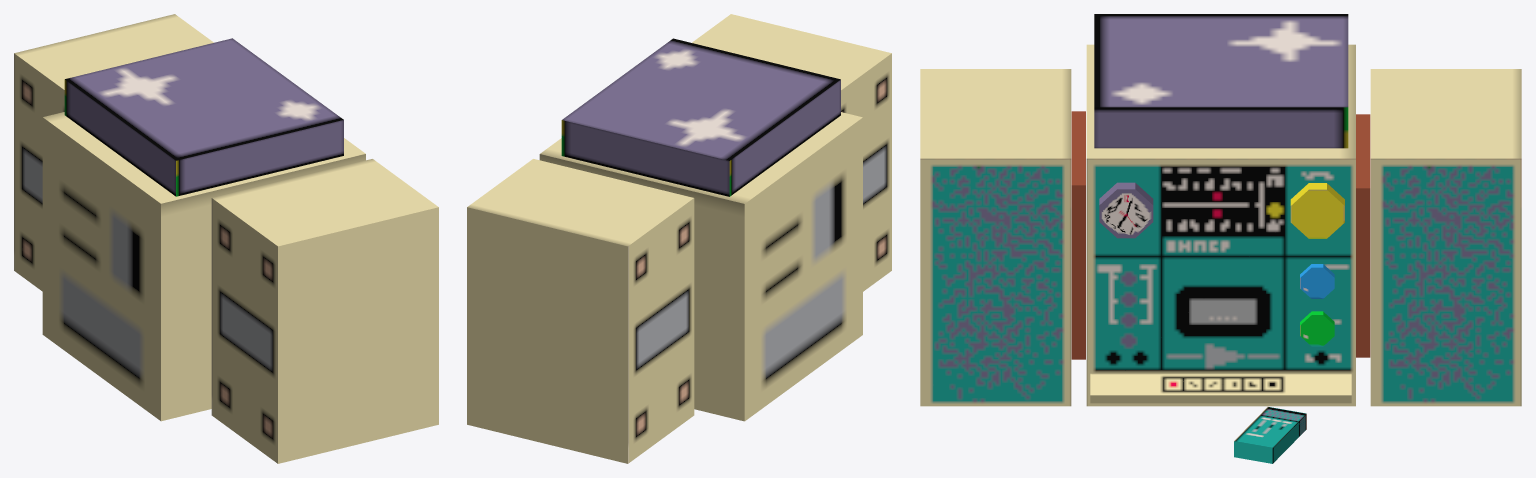
The model's file is sharp4.obj.
The picture shows the model from 3 angles, left to right: view 1: azimuth 30°, elevation 25°; view 2: azimuth 150°, elevation 25°; view 3: azimuth 270°, elevation 25°; orthographic projection. The views are drawn at different scales.
Visible parts, largest first — view 1: sharp4; view 2: sharp4; view 3: sharp4.
Part boxes in pixels (x1=…): sharp4: x1=14, y1=14, x2=438, y2=463; sharp4: x1=467, y1=14, x2=891, y2=463; sharp4: x1=920, y1=14, x2=1521, y2=463.
Size of the model in its own units: 3.74 by 2.89 by 5.45.
Materials: 1 (1 with a texture image).
